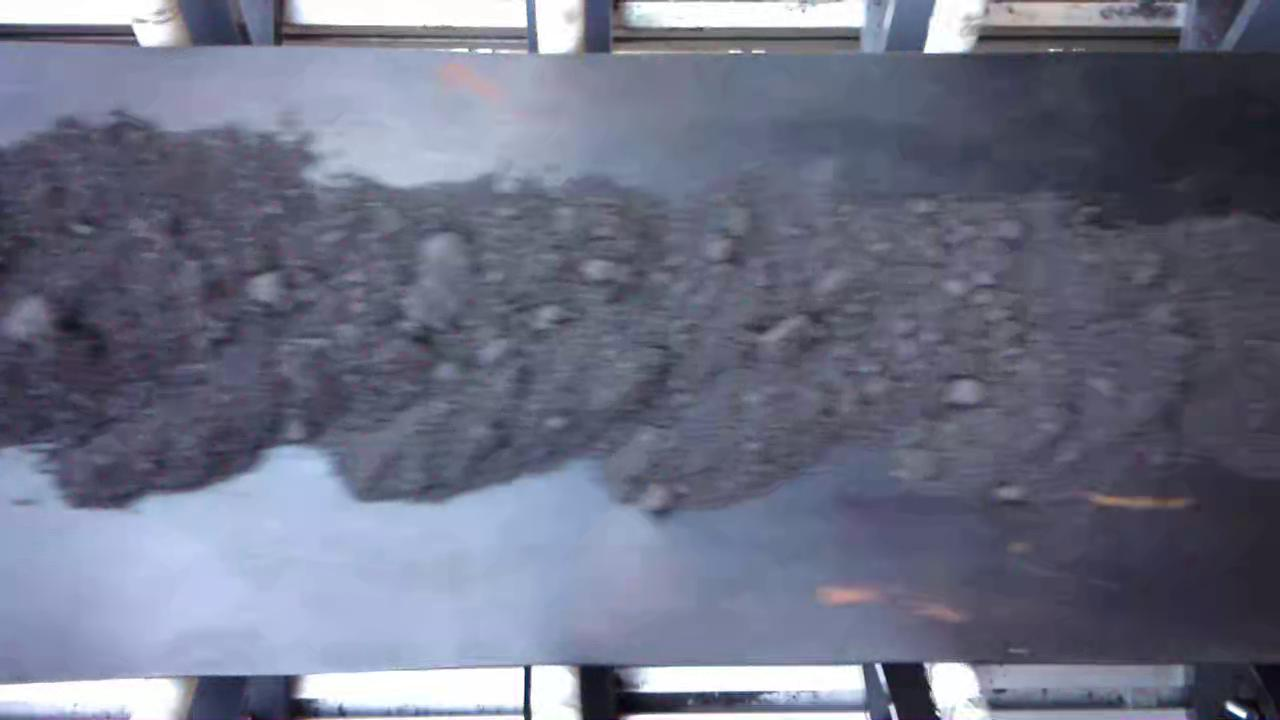conveyor: (5, 57, 1280, 660)
